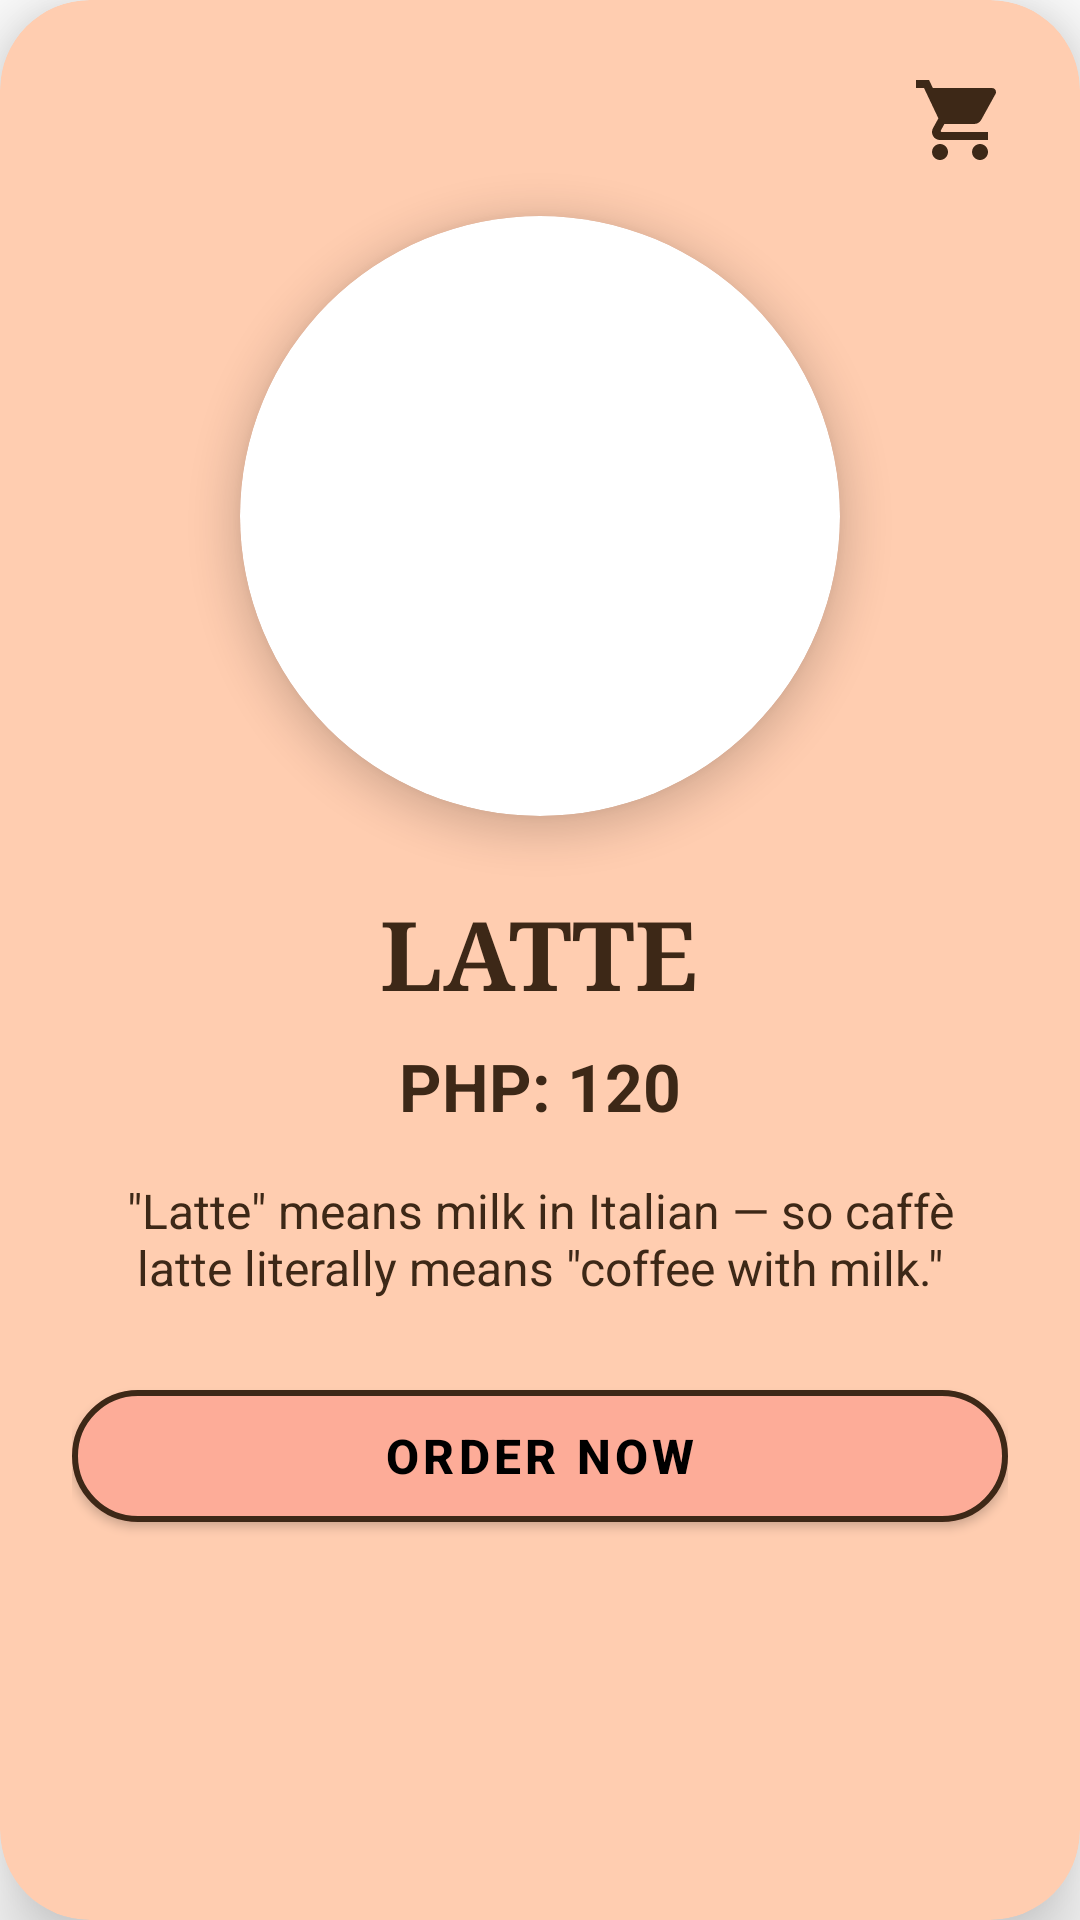

Named icons in this screenshot (1080*1920) and their bounding boxes, (x1, y1, x2, y2):
Cart: (916, 80, 996, 160)
